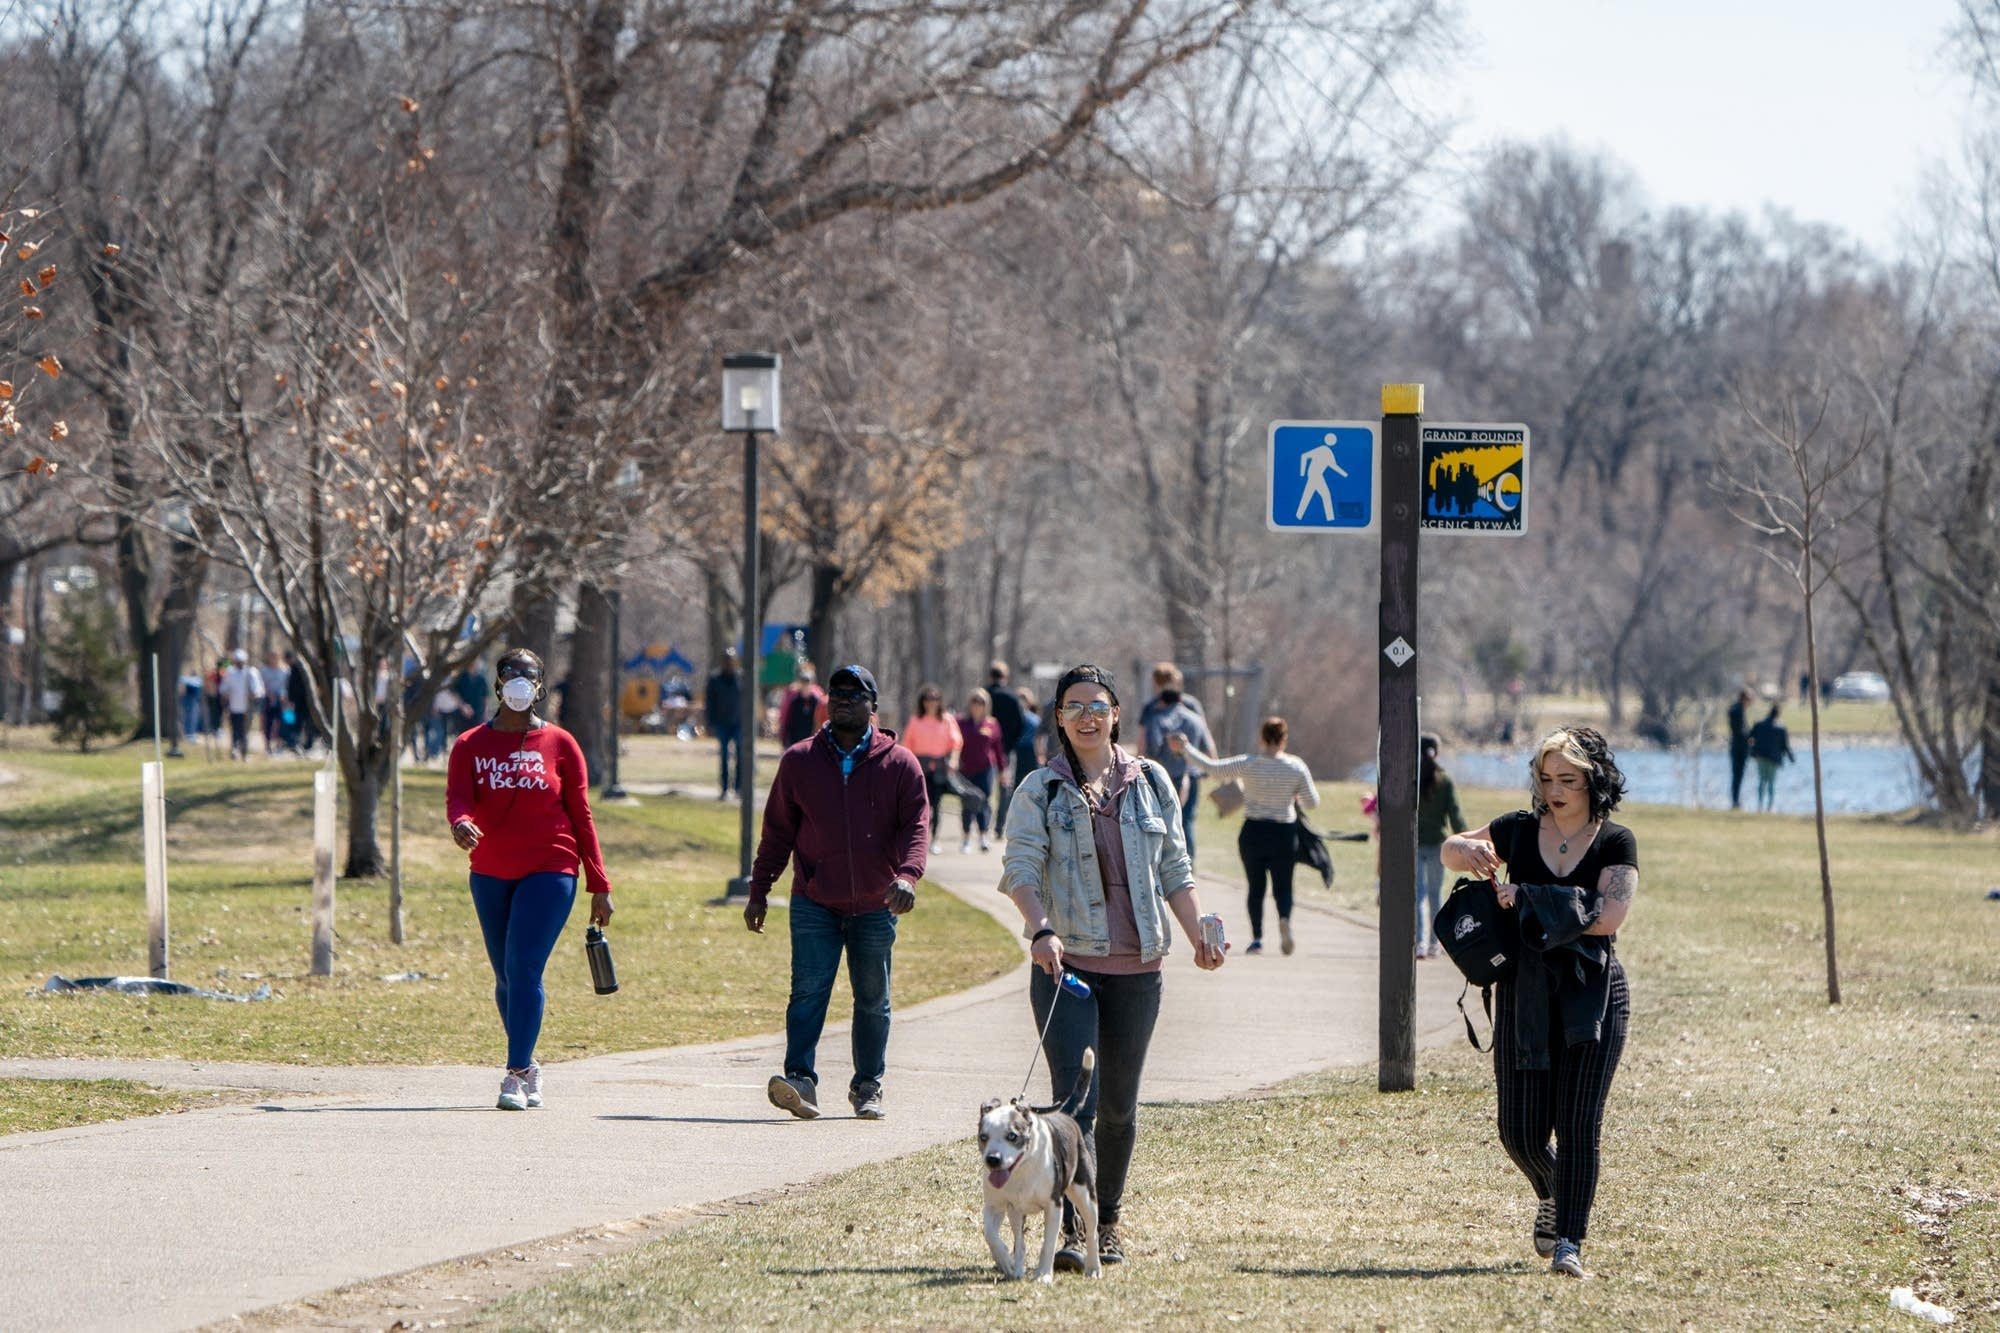person: (1008, 666, 1225, 1259), (1487, 733, 1639, 1266), (460, 650, 608, 1105), (777, 664, 922, 1124)
